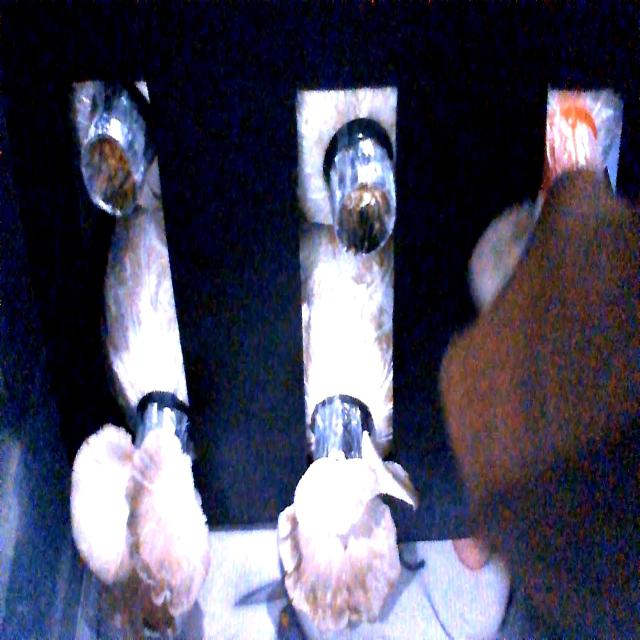big: (277, 437, 415, 631), (74, 417, 210, 613)
nfound: (336, 161, 394, 285), (81, 137, 136, 217)
